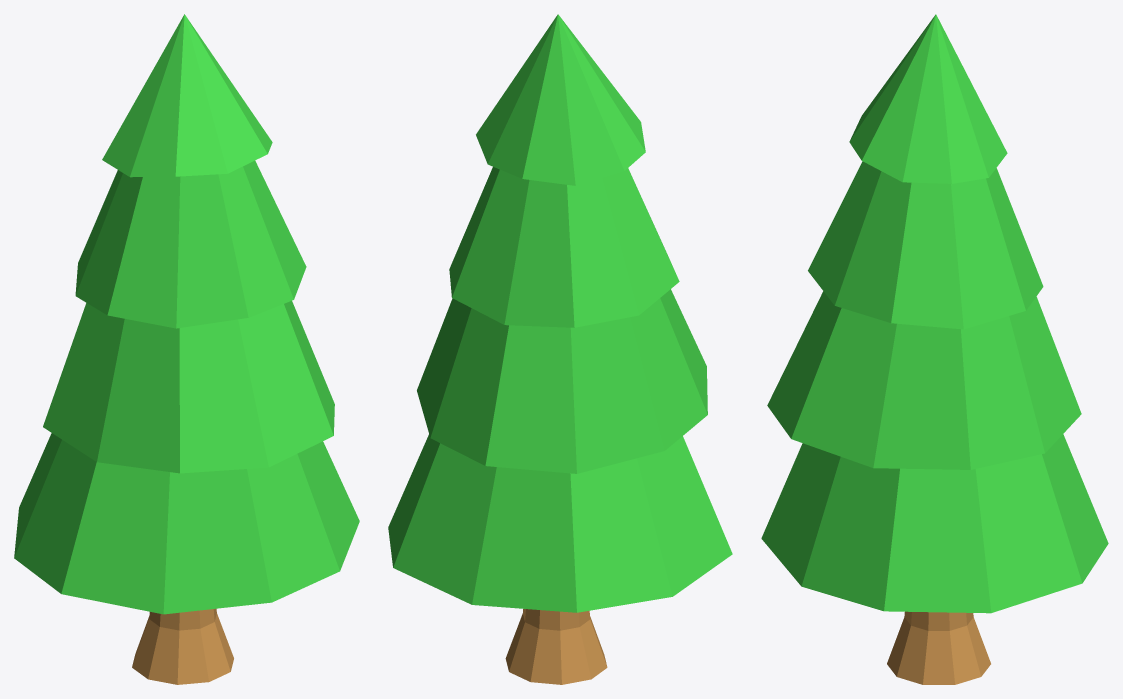
The model's file is kısa çam.fbx.
The picture shows the model from 3 angles, left to right: view 1: azimuth 30°, elevation 25°; view 2: azimuth 150°, elevation 25°; view 3: azimuth 270°, elevation 25°; orthographic projection.
Parts seen in each view (by area): view 1: Cylinder; view 2: Cylinder; view 3: Cylinder.
Boxes of the visible parts, <box> form: Cylinder: <box>14,14,359,684</box>; Cylinder: <box>388,14,732,684</box>; Cylinder: <box>761,14,1108,684</box>.
Bounding box in the file's own units: 453 × 943 × 457.
